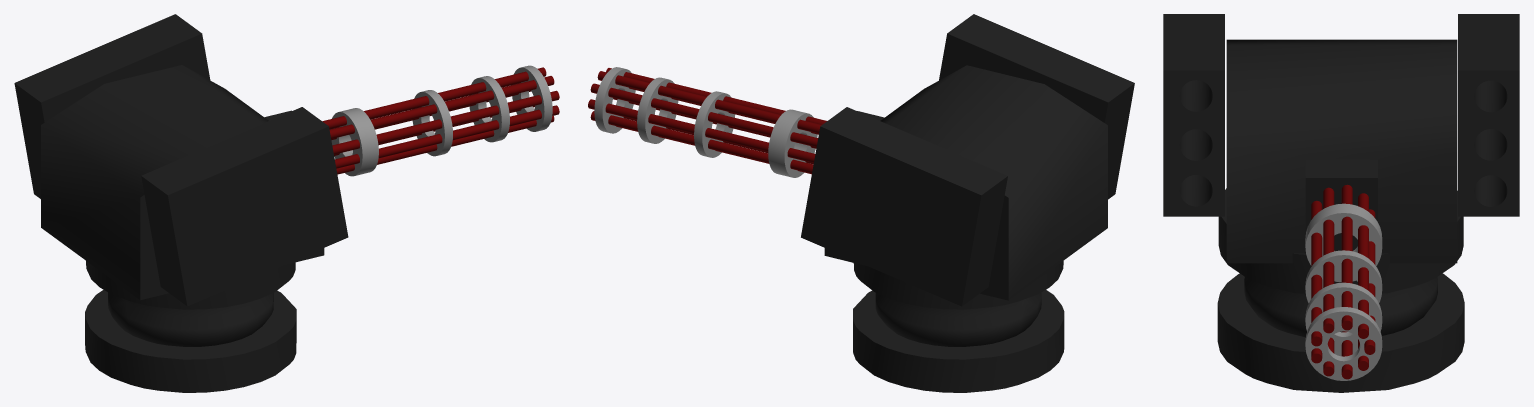
File: CombiTower.fbx
The picture shows the model from 3 angles, left to right: view 1: azimuth 30°, elevation 25°; view 2: azimuth 150°, elevation 25°; view 3: azimuth 270°, elevation 25°; orthographic projection. The views are drawn at different scales.
Visible parts, largest first — view 1: Head, Body, Minigun; view 2: Head, Body, Minigun; view 3: Head, Body, Minigun.
Boxes of the visible parts, x1=… form: Head: x1=14, y1=14, x2=348, y2=306; Body: x1=85, y1=261, x2=296, y2=392; Minigun: x1=322, y1=65, x2=559, y2=176; Head: x1=801, y1=14, x2=1134, y2=306; Body: x1=853, y1=261, x2=1064, y2=392; Minigun: x1=588, y1=67, x2=826, y2=177; Head: x1=1163, y1=14, x2=1519, y2=263; Body: x1=1217, y1=188, x2=1464, y2=392; Minigun: x1=1305, y1=184, x2=1382, y2=380.
Bounding box in the file's own units: 446 × 246 × 260.
